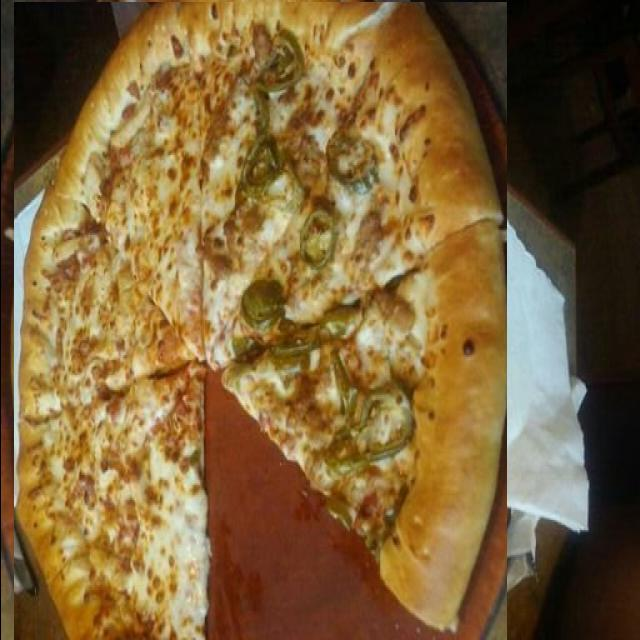pizza: (13, 2, 506, 640)
